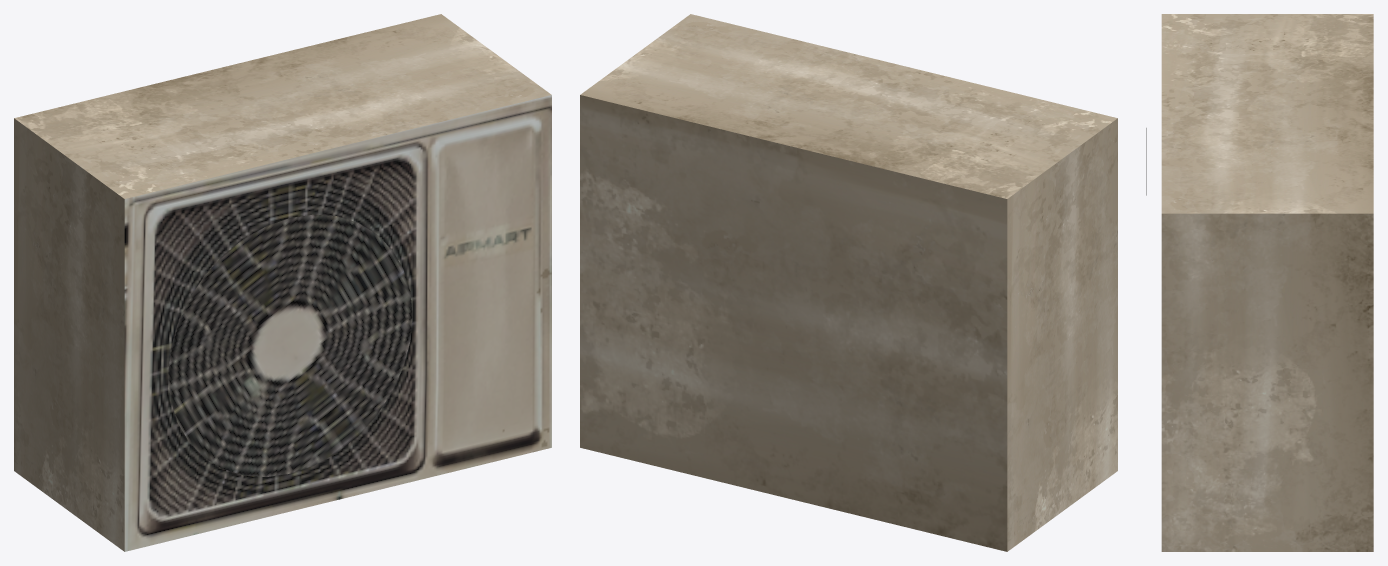
File: VentsSmall.fbx
3 renders of one model, left to right at view 1: azimuth 30°, elevation 25°; view 2: azimuth 150°, elevation 25°; view 3: azimuth 270°, elevation 25°, orthographic. The views are drawn at different scales.
Parts seen in each view (by area): view 1: VentsSmall; view 2: VentsSmall; view 3: VentsSmall.
Part boxes in pixels (x1,y1,x2,y2): VentsSmall: [14, 14, 551, 551]; VentsSmall: [580, 14, 1117, 551]; VentsSmall: [1146, 14, 1373, 551].
Bounding box in the file's own units: 0.6557 × 0.3151 × 0.5175.
